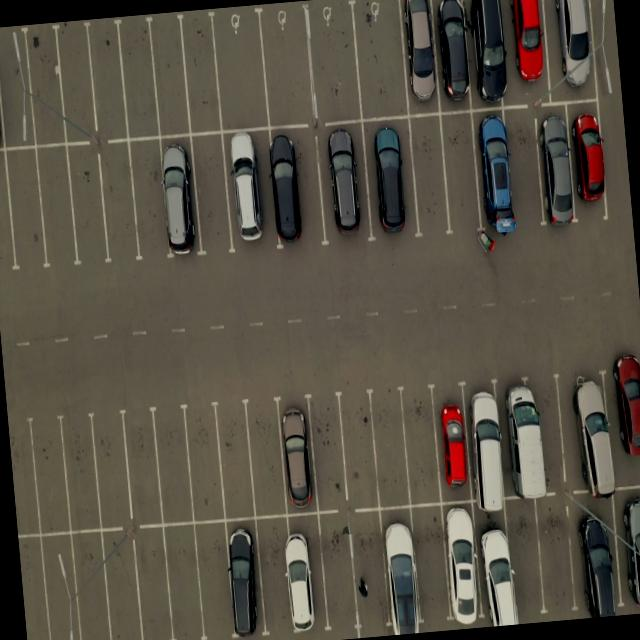car: (556, 368, 615, 492), (265, 127, 324, 250), (496, 376, 552, 502), (316, 124, 372, 246), (365, 116, 420, 238), (223, 128, 277, 252), (462, 376, 513, 501), (570, 496, 624, 614), (438, 499, 486, 627), (470, 109, 516, 234), (282, 513, 328, 635), (542, 0, 598, 100), (428, 382, 474, 502), (378, 507, 421, 632), (160, 138, 204, 260), (476, 502, 520, 624), (397, 0, 443, 116), (274, 394, 318, 512), (224, 518, 266, 640), (463, 0, 510, 108), (534, 105, 577, 223), (503, 0, 553, 101), (434, 0, 477, 112), (565, 102, 605, 214), (610, 358, 640, 474), (617, 490, 640, 610)
free: (210, 9, 272, 131), (258, 7, 320, 128), (347, 0, 407, 121), (304, 2, 362, 124), (20, 26, 69, 146), (188, 132, 236, 254), (114, 18, 162, 140), (177, 12, 225, 134), (0, 150, 47, 273), (62, 148, 110, 268), (35, 148, 82, 270), (85, 409, 133, 528), (534, 493, 582, 612), (440, 112, 486, 236), (148, 15, 195, 136), (51, 21, 98, 142), (398, 388, 446, 506), (24, 418, 71, 538), (63, 532, 115, 640), (124, 136, 170, 258), (85, 21, 132, 140), (348, 509, 393, 633), (183, 403, 230, 521), (57, 416, 104, 534), (243, 397, 290, 515), (150, 406, 197, 524), (96, 144, 142, 264), (120, 411, 167, 528), (410, 504, 454, 628), (335, 390, 382, 506), (212, 401, 258, 519), (159, 523, 205, 640), (365, 389, 411, 506), (406, 113, 450, 235), (502, 498, 546, 620), (252, 516, 296, 638), (193, 520, 237, 640), (313, 512, 357, 632), (132, 526, 178, 640), (303, 393, 348, 509), (96, 529, 143, 640), (505, 105, 547, 228), (35, 534, 81, 640), (7, 410, 40, 534), (0, 28, 33, 148), (18, 535, 52, 640), (0, 154, 16, 275)
